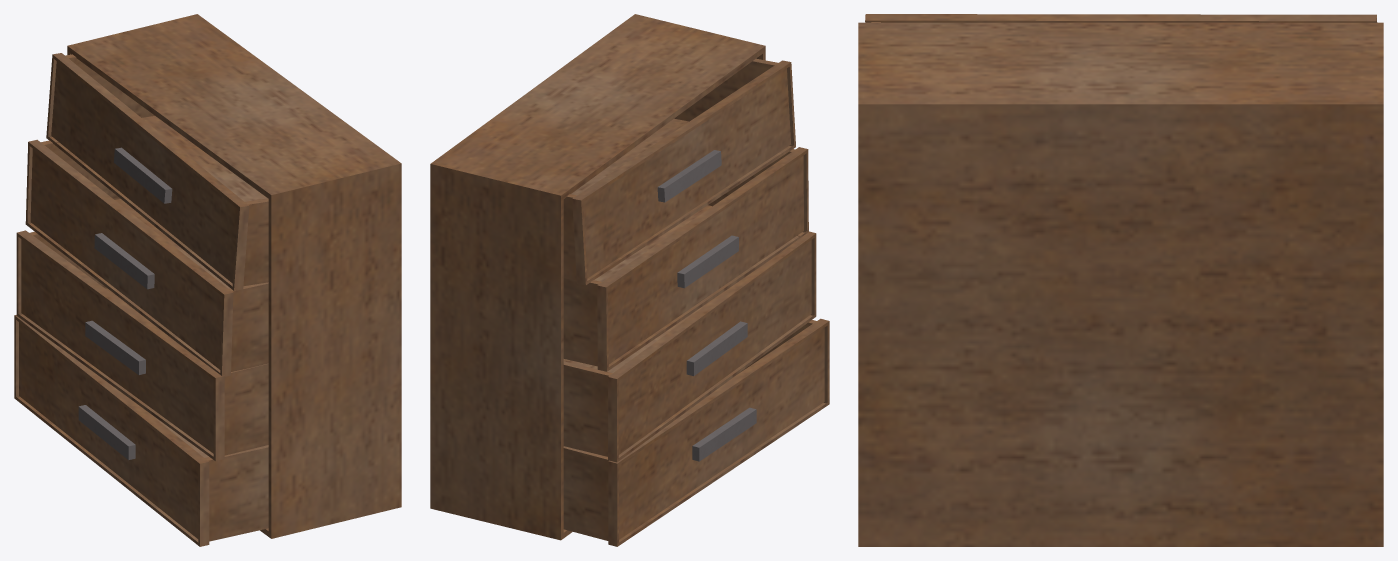
File: Cabinet_ver1.fbx
3 views of the same model, side by side, from view 1: azimuth 30°, elevation 25°; view 2: azimuth 150°, elevation 25°; view 3: azimuth 270°, elevation 25° (orthographic). The views are drawn at different scales.
Visible parts, largest first — view 1: Cabinet_ver1; view 2: Cabinet_ver1; view 3: Cabinet_ver1.
Part boxes in pixels (x1,y1,x2,y2): Cabinet_ver1: (14, 14, 401, 546); Cabinet_ver1: (430, 14, 829, 546); Cabinet_ver1: (858, 14, 1383, 546).
Size of the model in its own units: 287 by 477 by 514.
